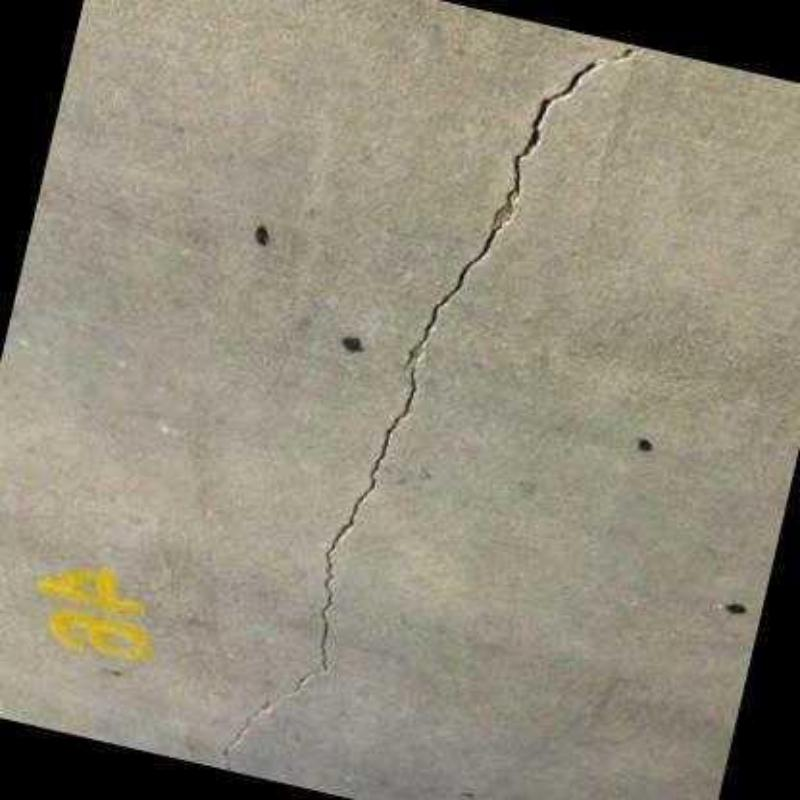pothole: (218, 50, 603, 756)
